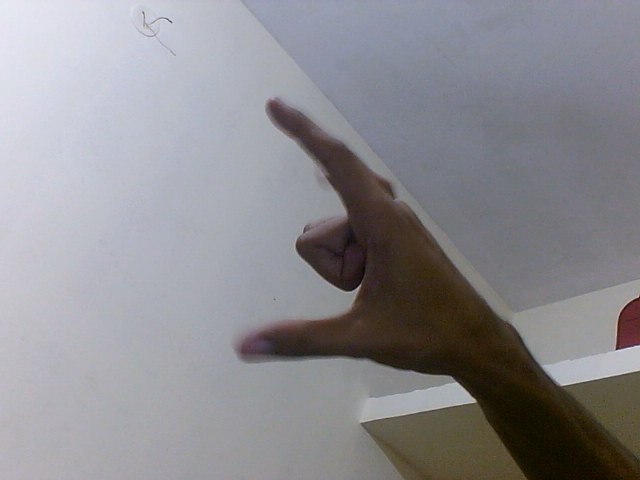hand: (227, 91, 522, 387)
